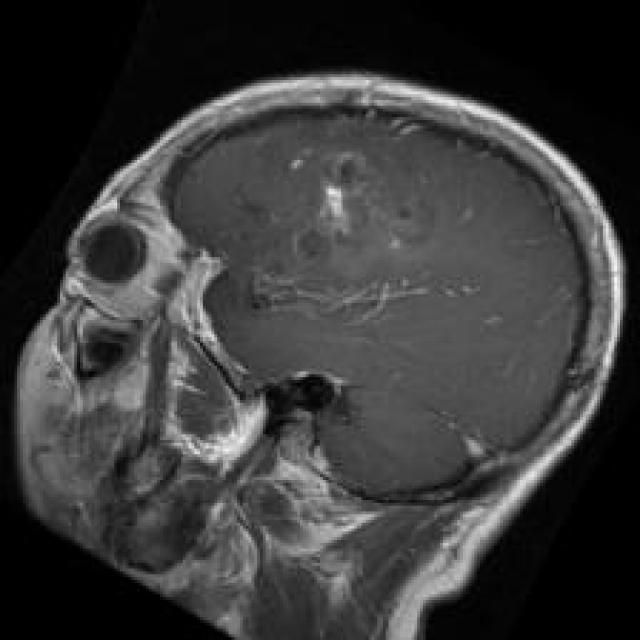glioma_tumor: (230, 132, 454, 272)
